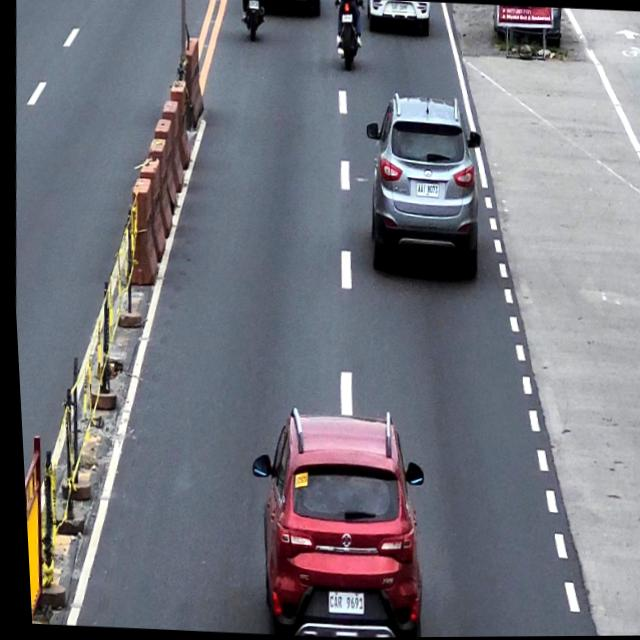Car: (237, 406, 428, 639), (357, 92, 487, 284)
License-Plate: (322, 591, 359, 615), (414, 183, 438, 200), (341, 15, 353, 24)
Motorcycle: (334, 0, 364, 72)
